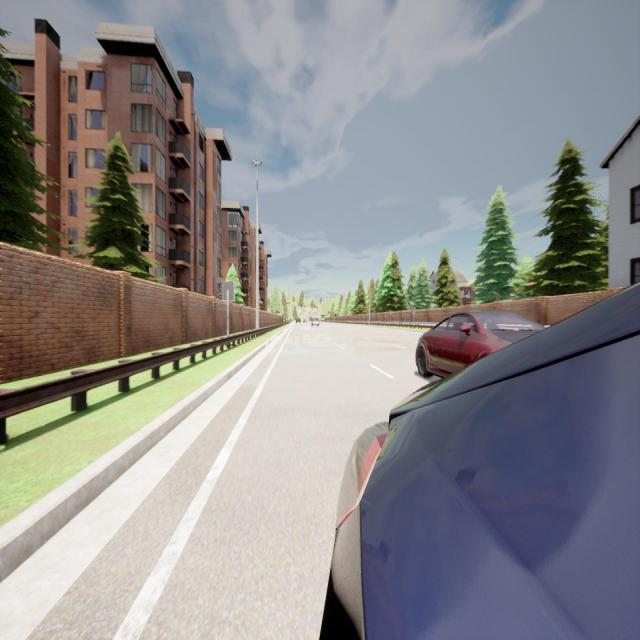Traffic_Signs: (223, 281, 233, 299)
Vehicle: (322, 285, 640, 638), (415, 311, 546, 380), (311, 318, 320, 327), (295, 317, 301, 323), (303, 318, 307, 322)
